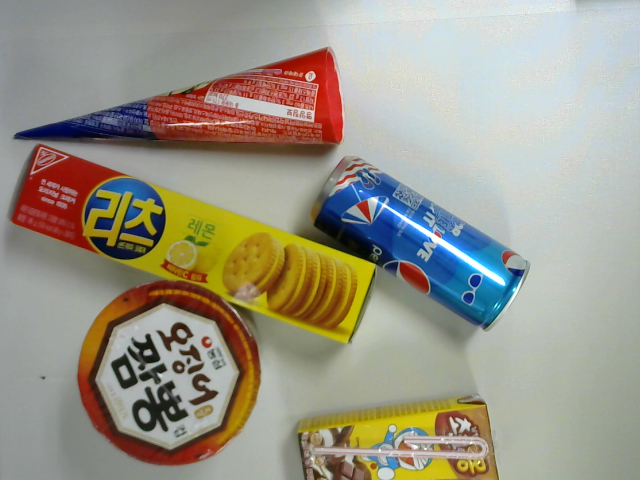Choco_E_Mong: (283, 387, 504, 480)
Ojjam: (78, 278, 269, 470)
Pepsi_Cola_Can_250ml: (305, 148, 534, 337)
Ritz_Remon_96g: (1, 142, 383, 350)
World_Cone_Banila: (2, 40, 348, 149)
